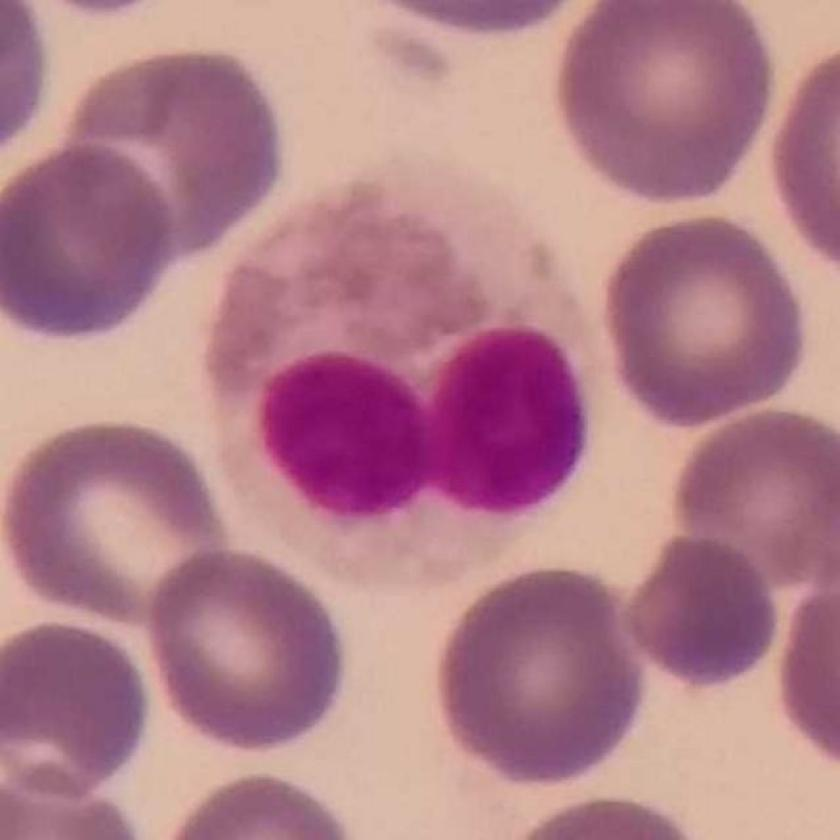eosinophil: (199, 140, 611, 594)
